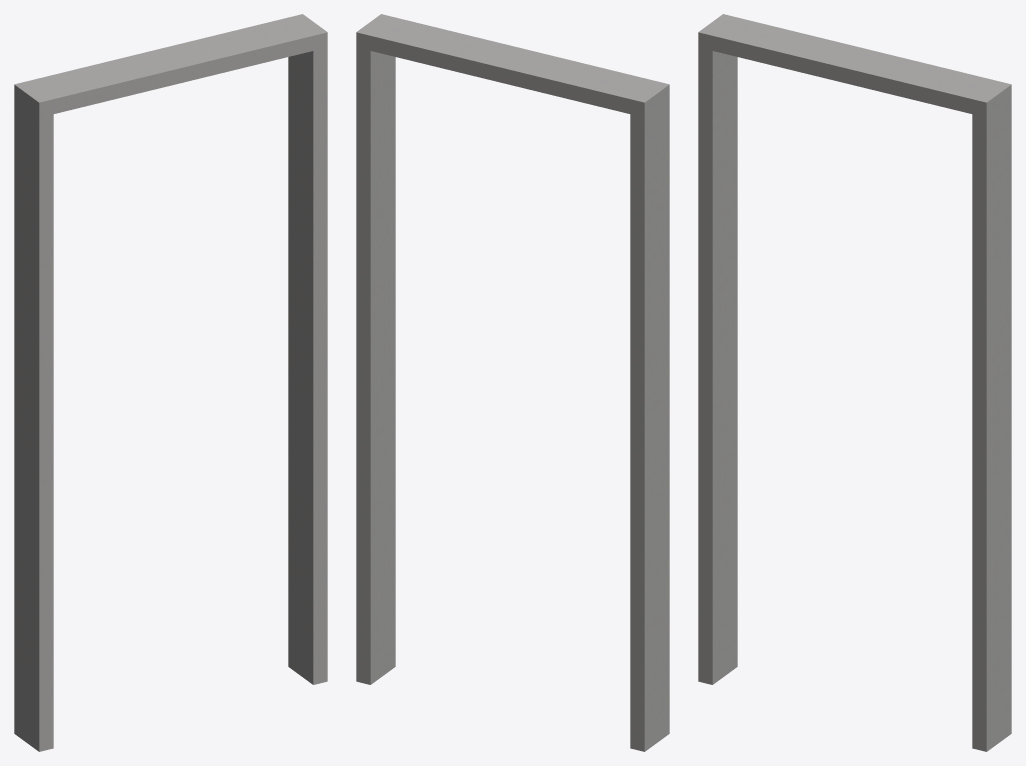
The picture shows the model from 3 angles, left to right: view 1: azimuth 30°, elevation 25°; view 2: azimuth 150°, elevation 25°; view 3: azimuth 330°, elevation 25°; orthographic projection.
Parts seen in each view (by area): view 1: futra_90; view 2: futra_90; view 3: futra_90.
Part boxes in pixels (left/top/right/bottom): futra_90: left=14, top=14, right=327, bottom=751; futra_90: left=356, top=14, right=669, bottom=751; futra_90: left=698, top=14, right=1011, bottom=751.
Bounding box in the file's own units: 1 × 0.15 × 2.15.
